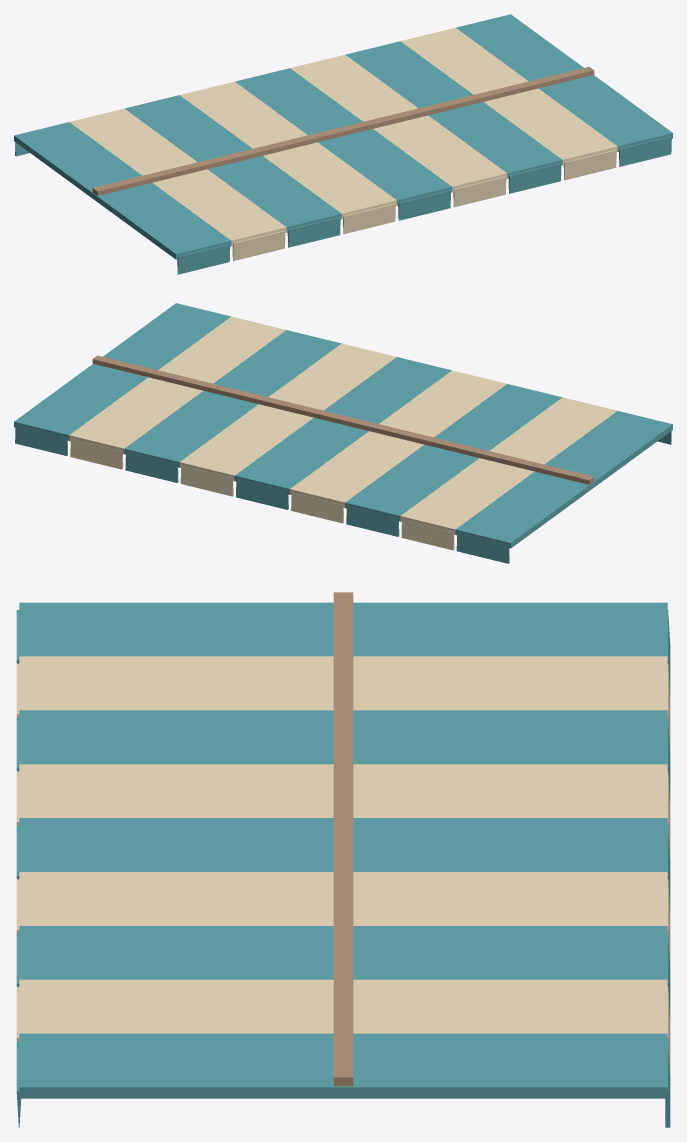
Rendered from stall_canopy.glb.
3 renders of one model, top to bottom at view 1: azimuth 30°, elevation 25°; view 2: azimuth 150°, elevation 25°; view 3: azimuth 270°, elevation 25°, orthographic. The views are drawn at different scales.
Visible parts, largest first — view 1: cloth3, cloth2, cloth3.001, cloth2.003, cloth3.003, cloth2.002, cloth2.001, cloth3.004, cloth3.002, wood, cloth2.004, cloth3.008 (+7 smaller); view 2: cloth3, cloth2.001, cloth3.003, cloth2.003, cloth3.001, cloth2, cloth3.002, cloth3.004, cloth2.002, wood, cloth3.013, cloth2.008 (+7 smaller); view 3: cloth3.004, cloth2, cloth2.003, cloth3, cloth3.001, cloth2.001, cloth2.002, cloth3.002, cloth3.003, wood.
Boxes of the visible parts, x1=… form: cloth3: x1=14, y1=122, x2=231, y2=259; cloth2: x1=69, y1=108, x2=286, y2=246; cloth3.001: x1=124, y1=95, x2=341, y2=232; cloth2.003: x1=401, y1=27, x2=617, y2=165; cloth3.003: x1=345, y1=41, x2=562, y2=178; cloth2.002: x1=290, y1=54, x2=507, y2=192; cloth2.001: x1=180, y1=81, x2=396, y2=219; cloth3.004: x1=456, y1=14, x2=672, y2=151; cloth3.002: x1=235, y1=68, x2=452, y2=205; wood: x1=92, y1=66, x2=594, y2=195; cloth2.004: x1=232, y1=230, x2=285, y2=261; cloth3.008: x1=508, y1=163, x2=561, y2=193; cloth3: x1=455, y1=411, x2=672, y2=548; cloth2.001: x1=290, y1=370, x2=506, y2=507; cloth3.003: x1=124, y1=330, x2=341, y2=467; cloth2.003: x1=69, y1=316, x2=285, y2=453; cloth3.001: x1=345, y1=384, x2=561, y2=521; cloth2: x1=400, y1=397, x2=617, y2=534; cloth3.002: x1=234, y1=357, x2=451, y2=494; cloth3.004: x1=14, y1=303, x2=230, y2=440; cloth2.002: x1=179, y1=343, x2=396, y2=480; wood: x1=92, y1=355, x2=594, y2=484; cloth3.013: x1=125, y1=452, x2=178, y2=482; cloth2.008: x1=401, y1=519, x2=454, y2=550; cloth3.004: x1=19, y1=1033, x2=667, y2=1098; cloth2: x1=19, y1=656, x2=667, y2=710; cloth2.003: x1=19, y1=979, x2=667, y2=1033; cloth3: x1=19, y1=602, x2=667, y2=656; cloth3.001: x1=19, y1=710, x2=667, y2=764; cloth2.001: x1=19, y1=764, x2=667, y2=817; cloth2.002: x1=19, y1=872, x2=667, y2=925; cloth3.002: x1=19, y1=818, x2=667, y2=871; cloth3.003: x1=19, y1=926, x2=667, y2=979; wood: x1=333, y1=592, x2=353, y2=1086.
Size of the model in its own units: 4.6 by 0.23 by 2.62.
